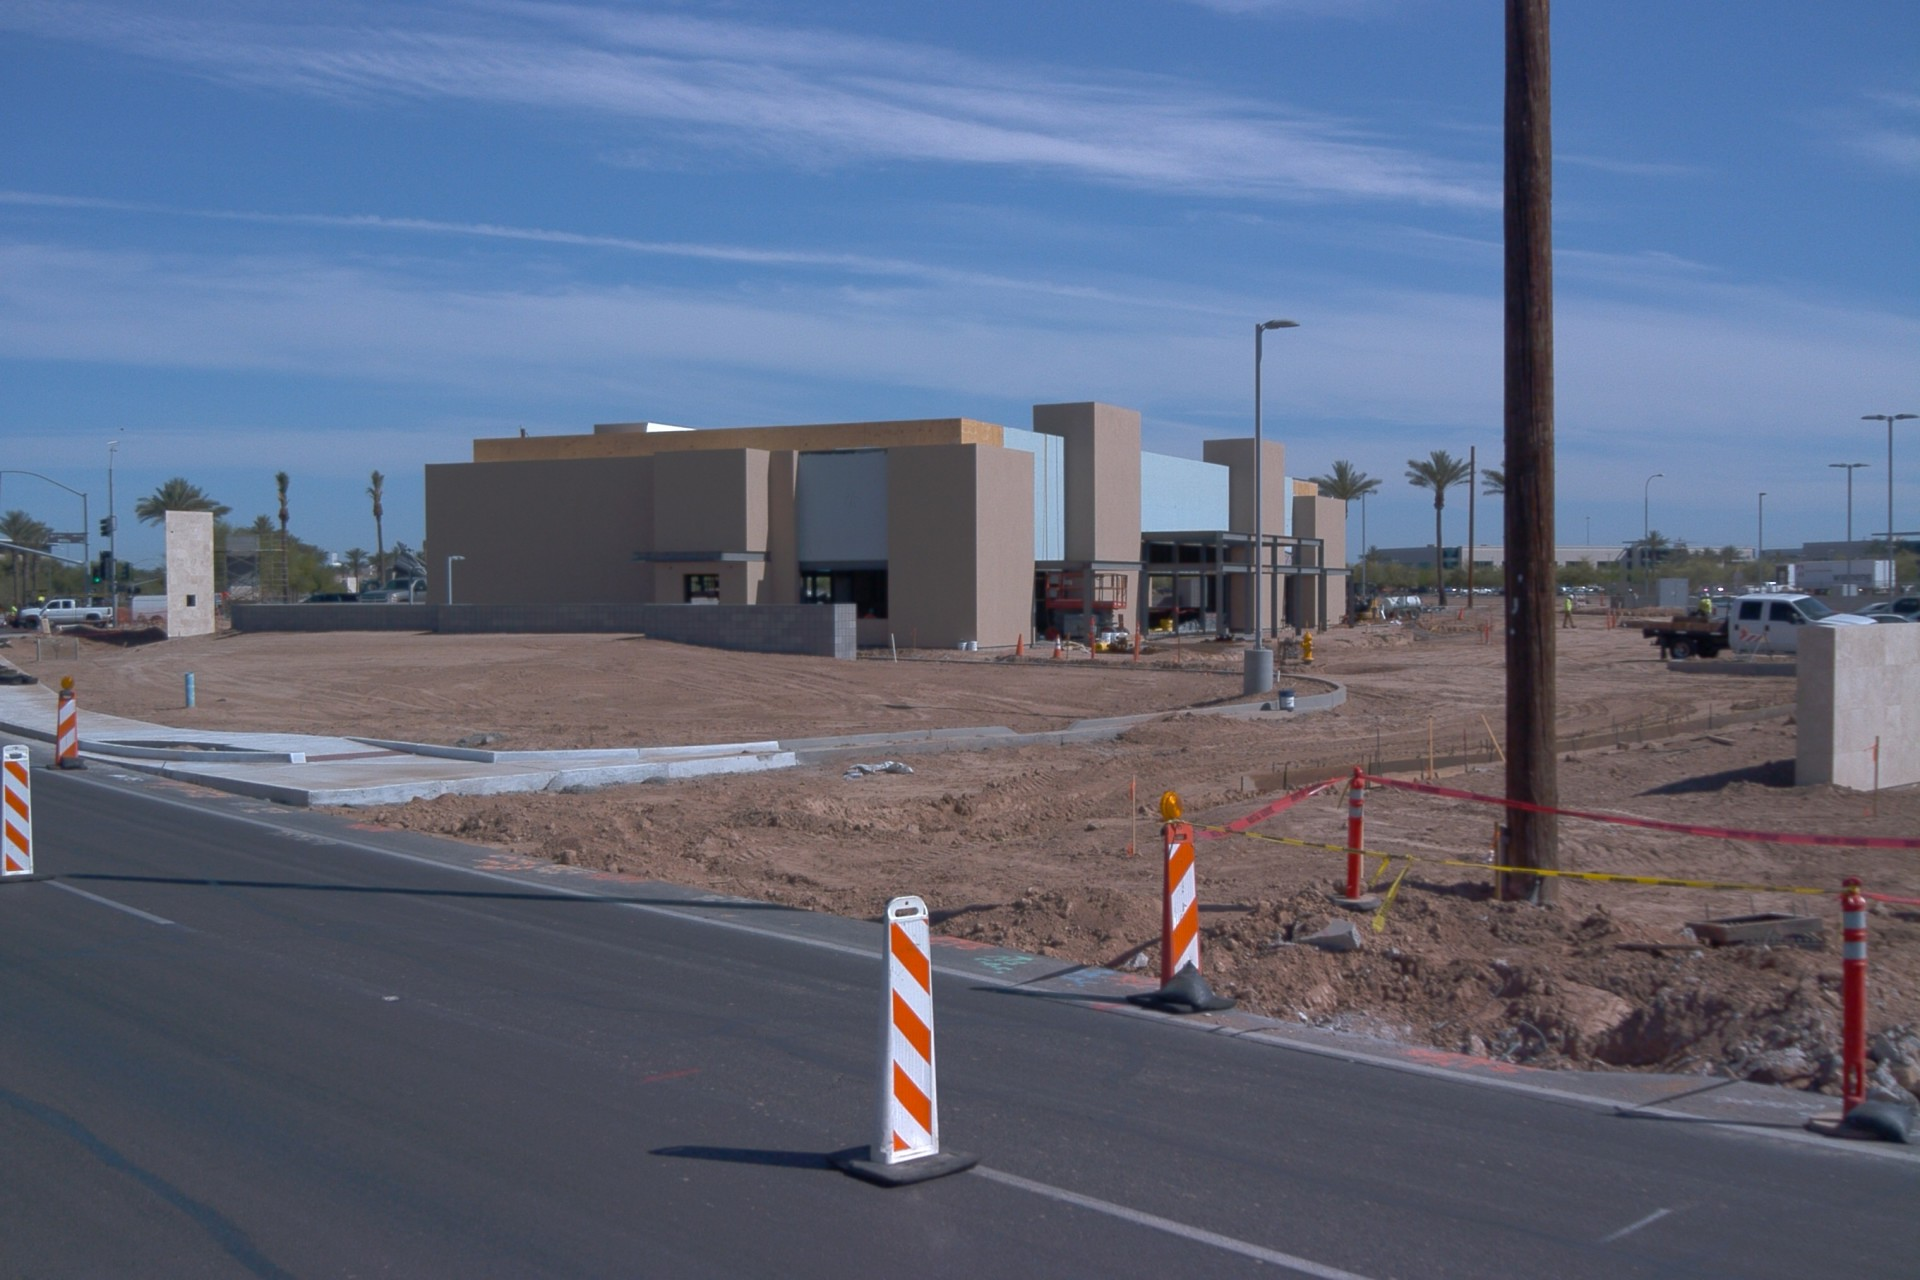TYPE_PEDESTRIAN: (1562, 595, 1577, 630), (1700, 591, 1714, 624), (1692, 592, 1708, 616), (11, 603, 19, 617)
TYPE_VEHICLE: (1640, 591, 1877, 664), (357, 540, 428, 607), (21, 598, 111, 631), (1851, 587, 1920, 626), (1380, 588, 1447, 620), (357, 576, 428, 606), (131, 596, 171, 630), (296, 590, 370, 606), (27, 587, 51, 606), (1866, 616, 1920, 624), (1711, 593, 1740, 606), (806, 592, 830, 604), (1472, 585, 1493, 598), (1458, 586, 1471, 598), (1909, 610, 1920, 624), (803, 590, 811, 597)
